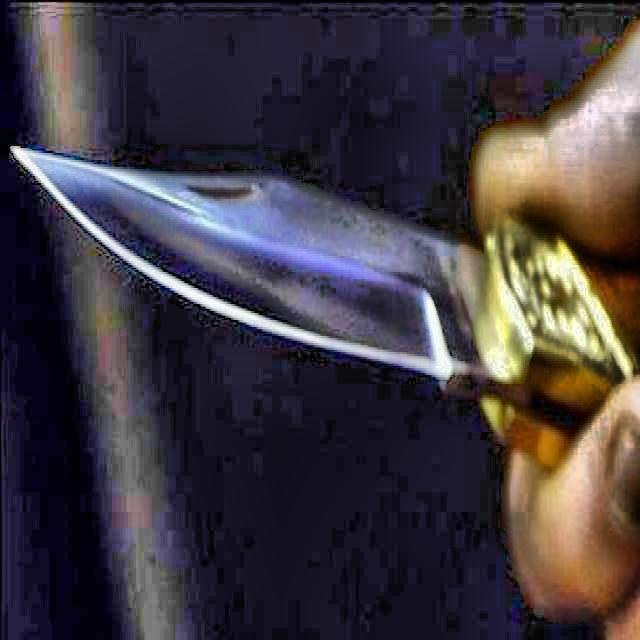knife: (16, 149, 639, 470)
